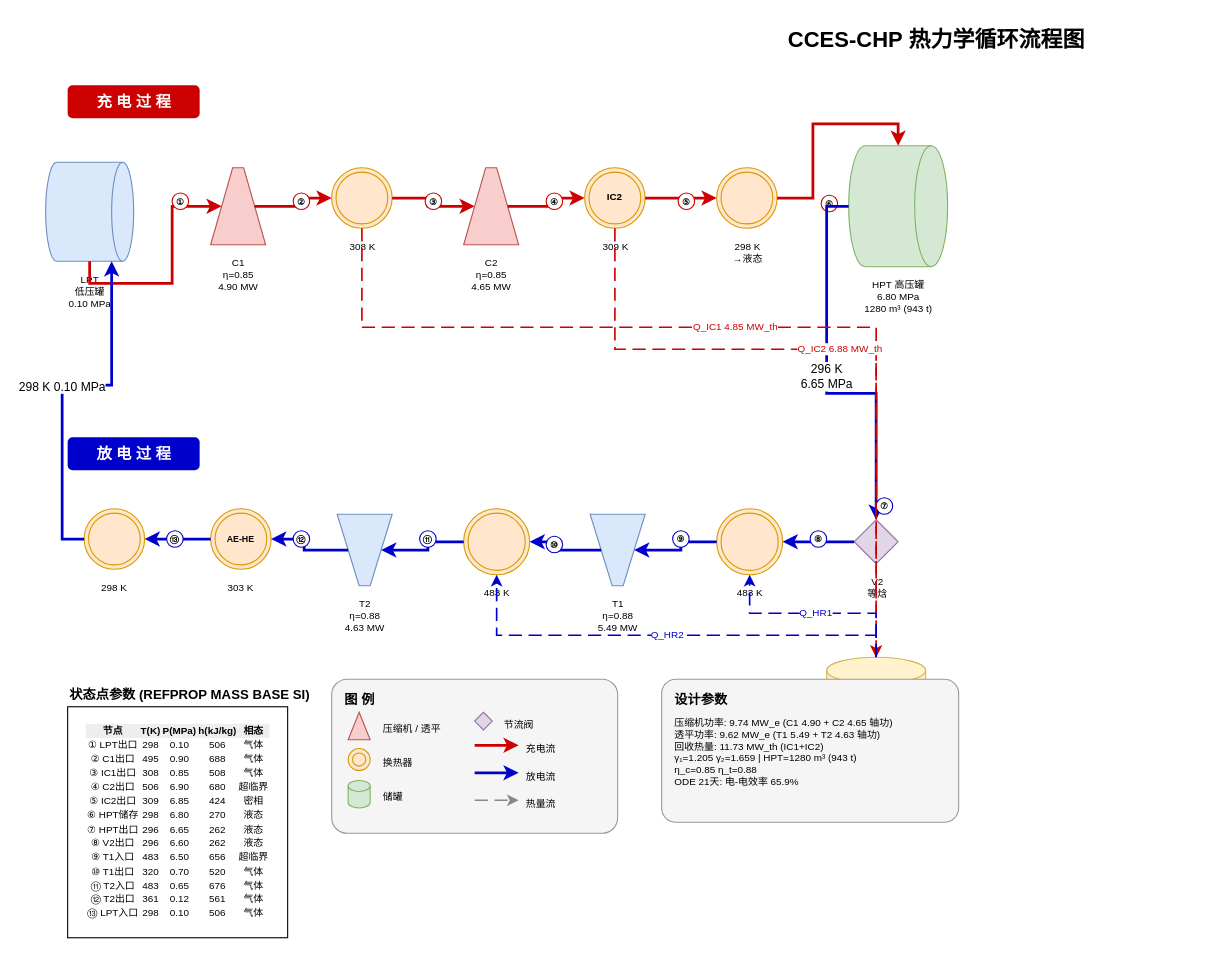
The diagram is 1231 pixels wide and 957 high, and some of its shapes have lost their labels. Here are the shapes that lost their labels. From the top down, the centre of each, then its label:
At (361,197): "IC1".
At (746,197): "LHE".
At (114,538): "Cool".
At (496,541): "HR2".
At (749,541): "EHE+HR1".
